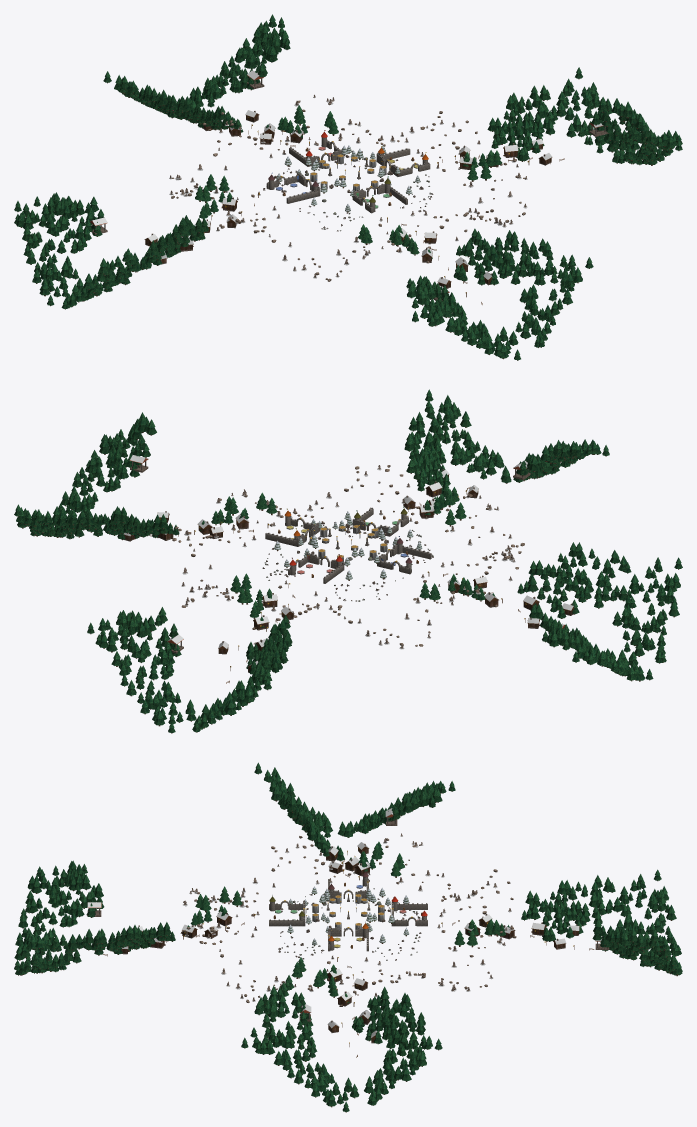
The model's file is frostcross.glb.
3 views of the same model, one above another, from view 1: azimuth 30°, elevation 25°; view 2: azimuth 150°, elevation 25°; view 3: azimuth 270°, elevation 25° (orthographic). The views are drawn at different scales.
Parts seen in each view (by area): view 1: Props; view 2: Props; view 3: Props.
Boxes of the visible parts, box(x1,y1,x2,y2) form: Props: box(14, 14, 682, 360); Props: box(14, 389, 682, 733); Props: box(14, 762, 682, 1112).
Size of the model in its own units: 295 by 50.39 by 295.
Materials: 15 (15 with a texture image).
